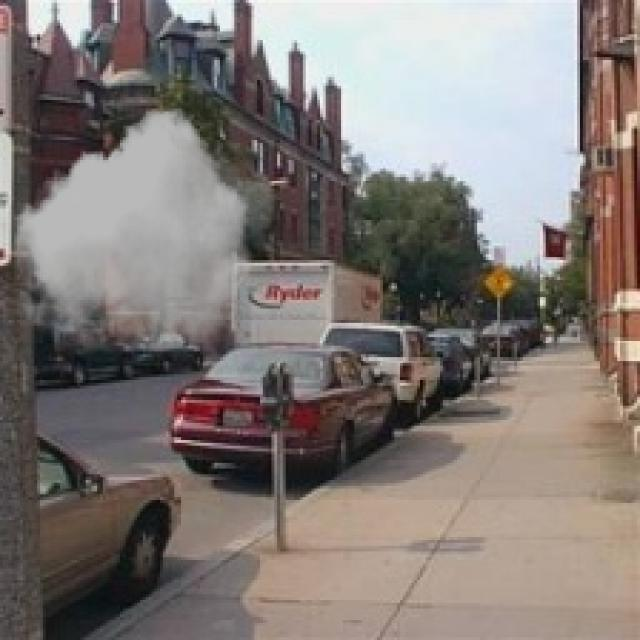smoke: (8, 108, 283, 352)
